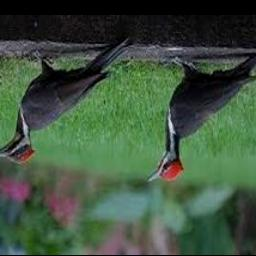Woodpecker: (0, 38, 133, 165), (146, 54, 256, 183)
